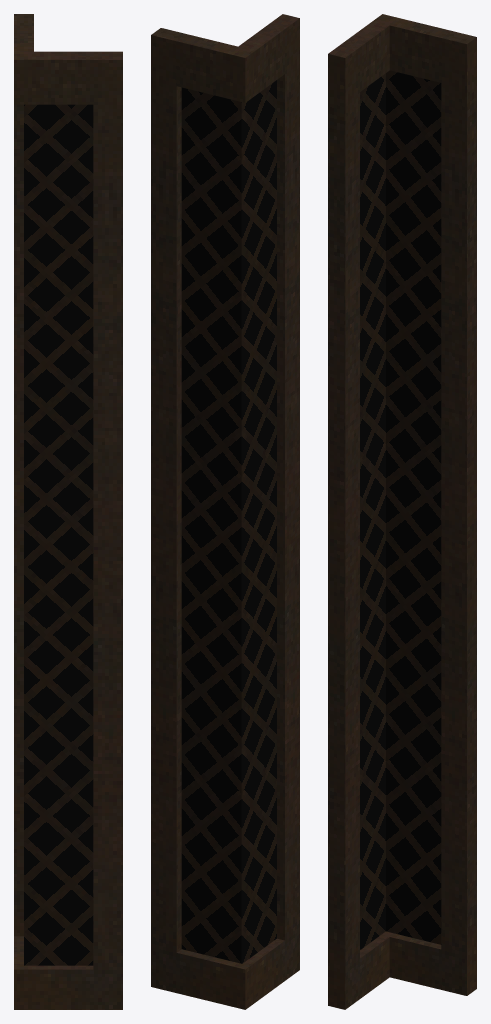
Rendered from fence_e_pillar_1_corner.glb.
3 views of the same model, side by side, from view 1: azimuth 90°, elevation 25°; view 2: azimuth 150°, elevation 25°; view 3: azimuth 330°, elevation 25° (orthographic).
Parts seen in each view (by area): view 1: fence_e_pillar_1_corner; view 2: fence_e_pillar_1_corner; view 3: fence_e_pillar_1_corner.
Boxes of the visible parts, x1,y1,x2,y2 form: fence_e_pillar_1_corner: [14, 14, 122, 1009]; fence_e_pillar_1_corner: [151, 14, 299, 1009]; fence_e_pillar_1_corner: [328, 14, 476, 1009].
Bounding box in the file's own units: 0.22 × 2.12 × 0.22.
2 materials, 2 textured.
